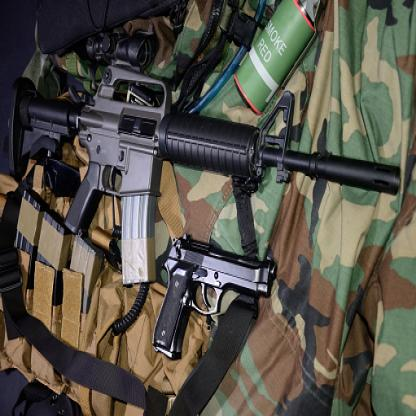Grenade: (234, 0, 322, 118)
Gun: (6, 29, 402, 285)
Pistol: (153, 231, 278, 360)
